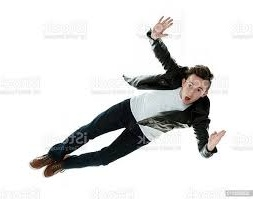fall: (23, 9, 231, 180)
